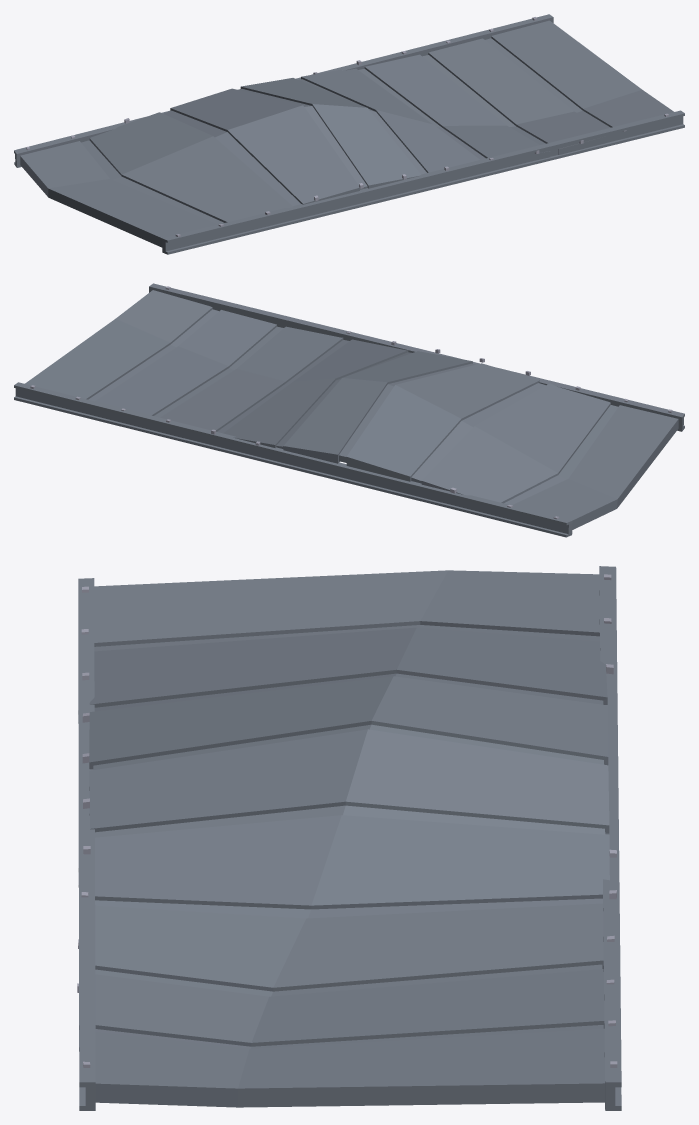
The model's file is Board01_008.fbx.
3 renders of one model, top to bottom at view 1: azimuth 30°, elevation 25°; view 2: azimuth 150°, elevation 25°; view 3: azimuth 270°, elevation 25°, orthographic. The views are drawn at different scales.
Parts seen in each view (by area): view 1: Board01.008; view 2: Board01.008; view 3: Board01.008.
Part boxes in pixels (box(x1,y1,x2,y2)): Board01.008: box(14, 14, 684, 254); Board01.008: box(14, 283, 684, 537); Board01.008: box(77, 566, 621, 1110).
Size of the model in its own units: 2.15 by 0.2103 by 0.9299.
